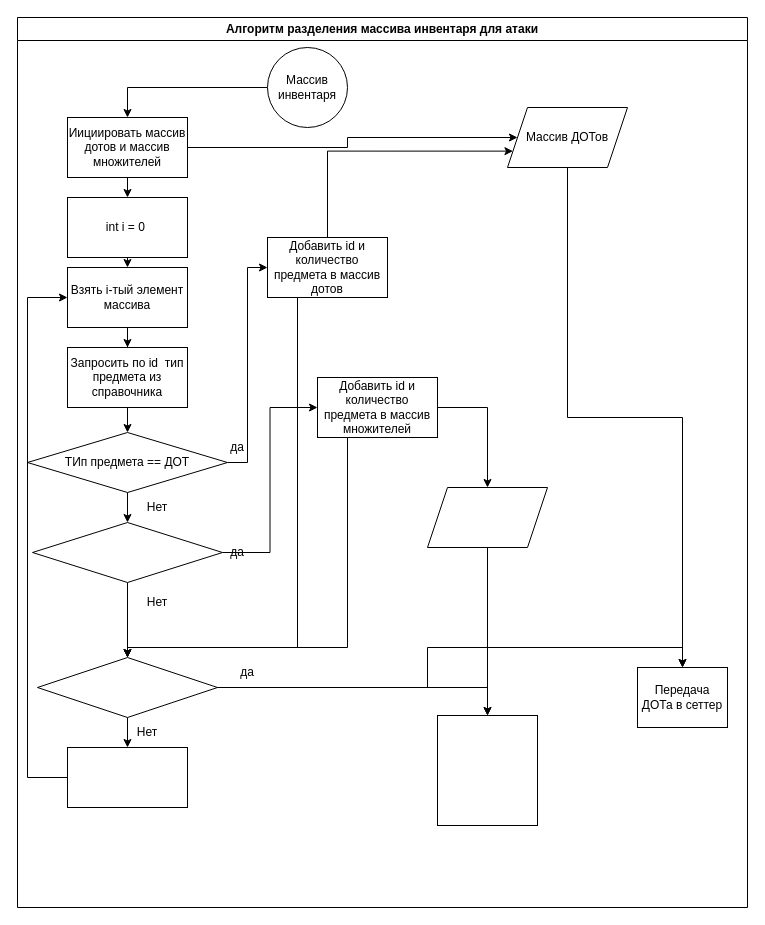
The diagram is 765 pixels wide and 925 high, and some of its shapes have lost their labels. The box of each missing label's shape, as (x1, y1, x2, y2) in pixels:
i = длине массива инвентаря: (36, 656, 218, 718)
i++: (66, 746, 188, 808)
Массив множителей: (426, 486, 548, 548)
Передача МАссива множителей в Алгоритм расчета Скаллирования урона: (436, 714, 538, 826)
ТИп предмета == множитель: (32, 522, 222, 582)
